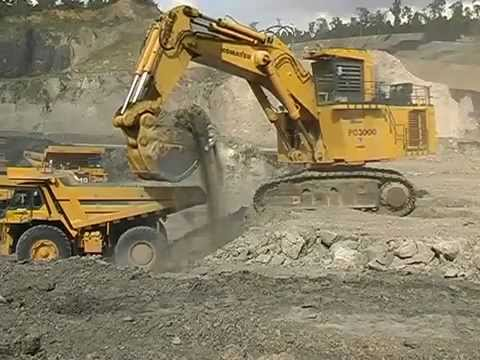backhoe: (120, 4, 433, 219)
truck: (1, 145, 211, 275)
